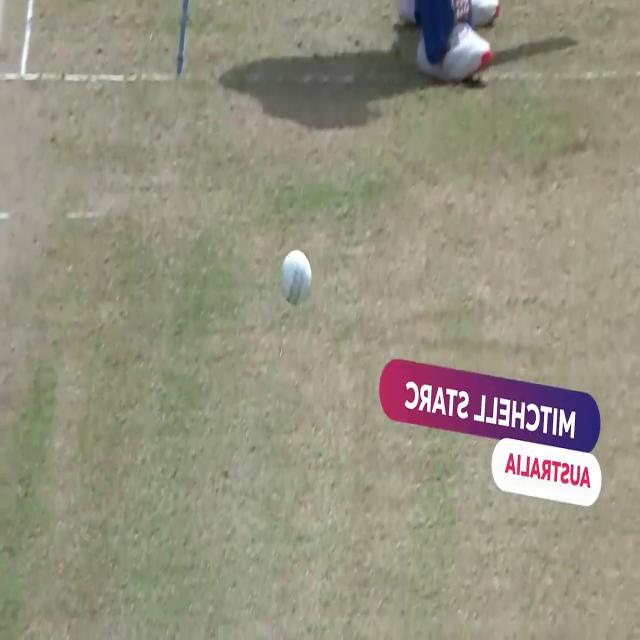ball: (271, 243, 316, 313)
